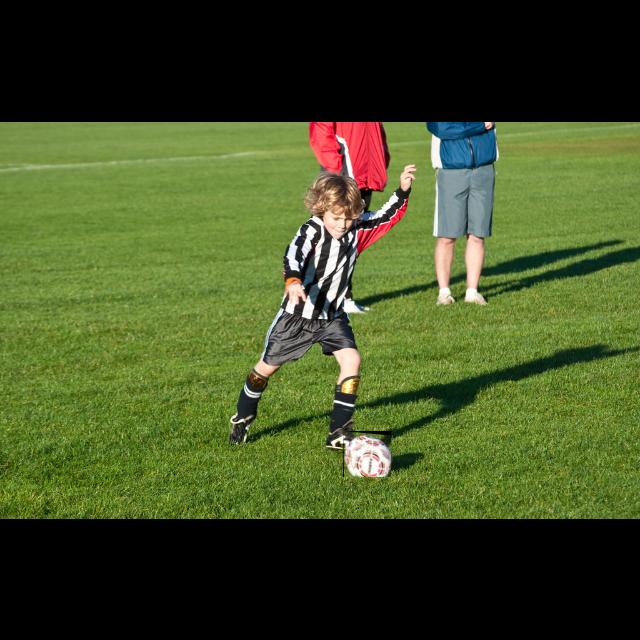Football: (343, 431, 391, 477)
